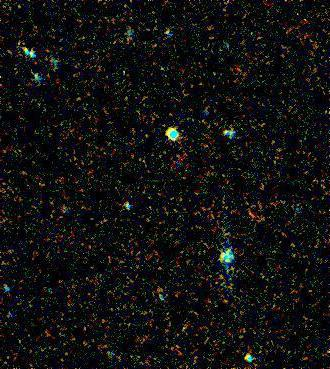star: (209, 247, 239, 277)
